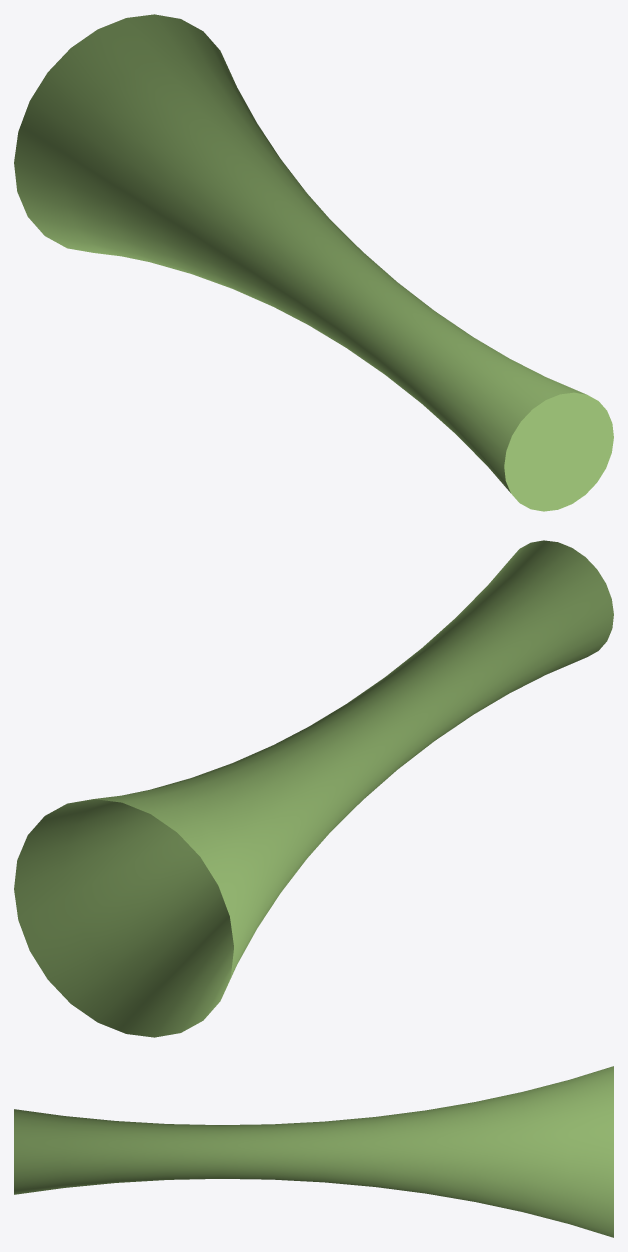
Rendered from model_scale.obj.
The picture shows the model from 3 angles, top to bottom: view 1: azimuth 30°, elevation 25°; view 2: azimuth 150°, elevation 25°; view 3: azimuth 270°, elevation 25°; orthographic projection. The views are drawn at different scales.
Visible parts, largest first — view 1: mesh1_mesh1-geometry; view 2: mesh1_mesh1-geometry; view 3: mesh1_mesh1-geometry.
Part boxes in pixels (box(x1,y1,x2,y2)): mesh1_mesh1-geometry: box(14, 14, 613, 511); mesh1_mesh1-geometry: box(14, 540, 613, 1037); mesh1_mesh1-geometry: box(14, 1066, 613, 1237).
Bounding box in the file's own units: 0.0452 × 0.0452 × 0.1545.
